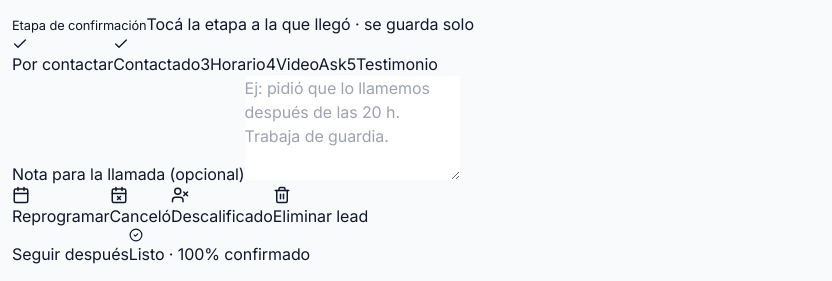
Test: TabConfirmacion · Descalificado › abre su sub-vista y no deja descalificar sin motivo
Step 1. Click the button "Descalificado" → [222, 207], box [171,186,273,228]
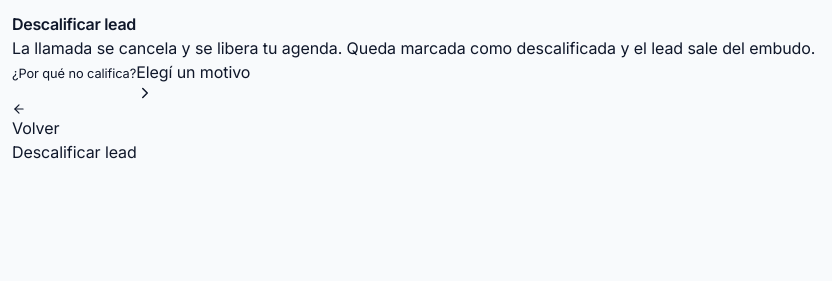
Expected: the button "Descalificar lead" is disabled, [12,140,137,164]
Result: the text "La llamada se cancela y se libera tu agenda" is shown at [12,38,815,58]
